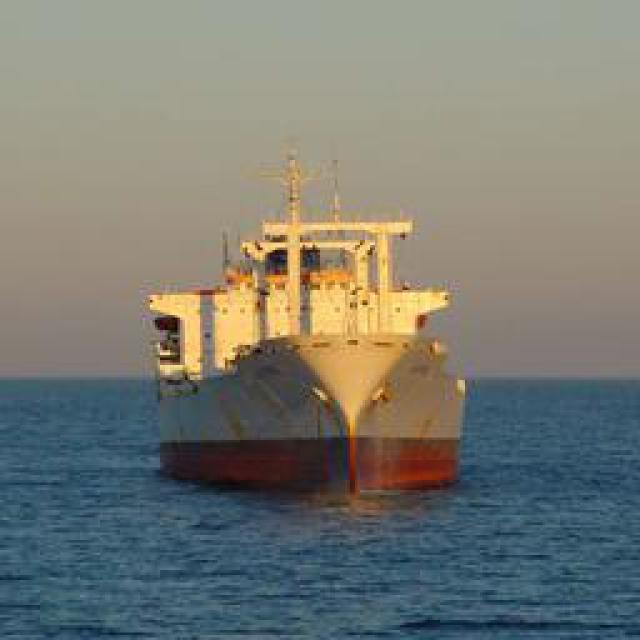Ship: (149, 156, 464, 506)
